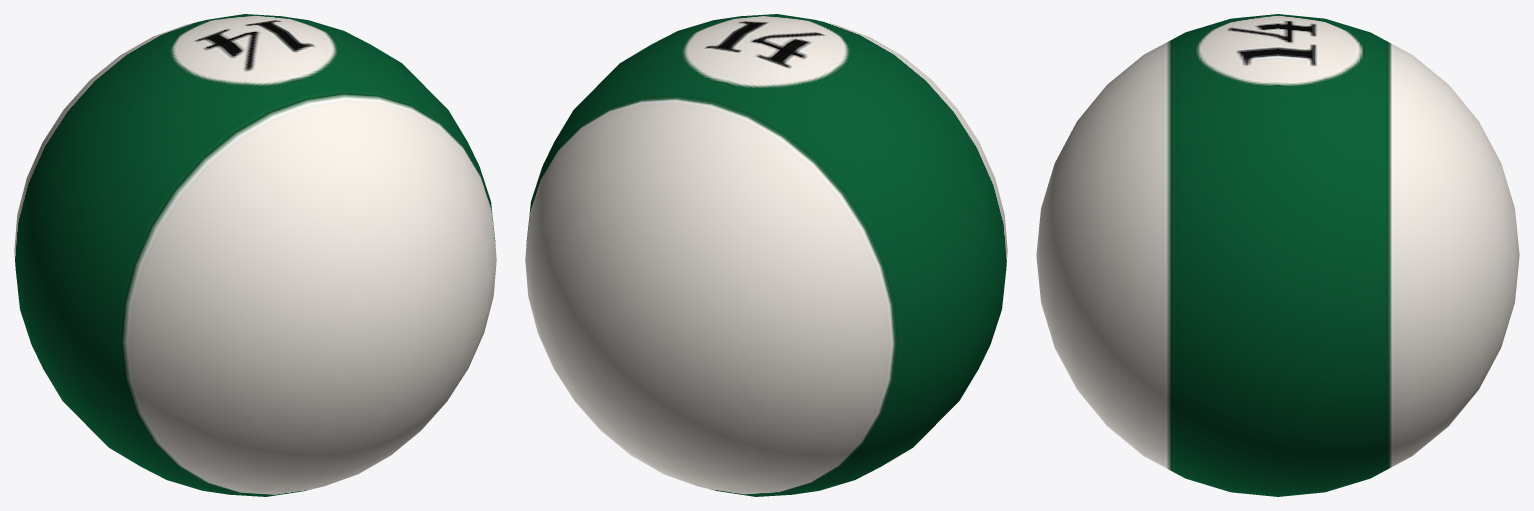
Rendered from Billiard Ball 14.glb.
3 renders of one model, left to right at view 1: azimuth 30°, elevation 25°; view 2: azimuth 150°, elevation 25°; view 3: azimuth 270°, elevation 25°, orthographic.
Visible parts, largest first — view 1: Ball14_05 - Default_0; view 2: Ball14_05 - Default_0; view 3: Ball14_05 - Default_0.
Boxes of the visible parts, x1,y1,x2,y2 form: Ball14_05 - Default_0: (14,14,496,496); Ball14_05 - Default_0: (525,14,1007,496); Ball14_05 - Default_0: (1036,14,1519,496).
Size of the model in its own units: 37.86 by 37.86 by 37.86.
1 material, 1 textured.
